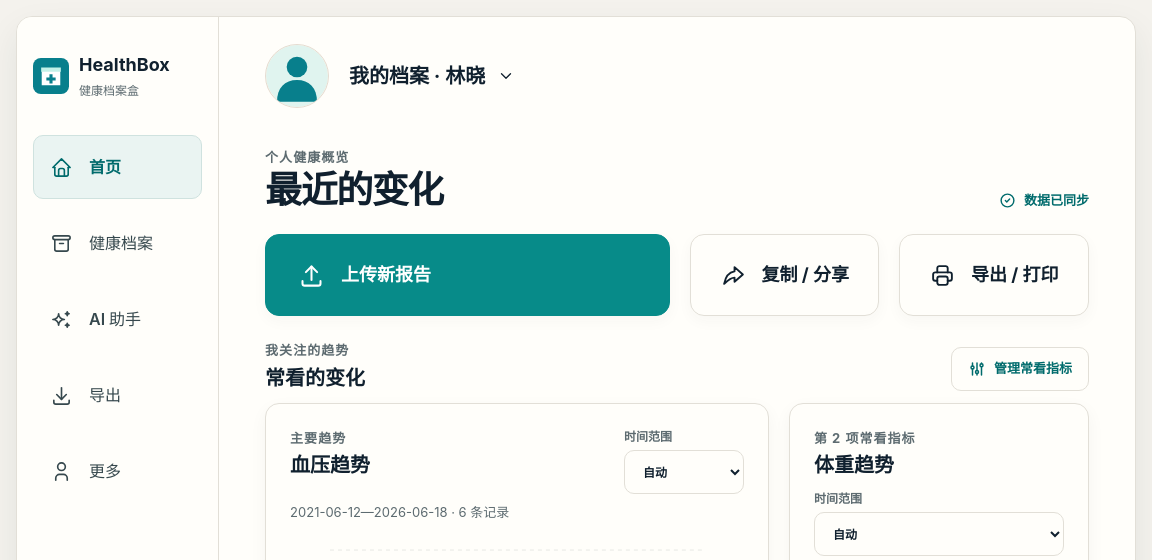
Test case: HouseholdHealthPrototype › opens the education-only body and screening navigator from more
Click the button "更多": click(118, 471) [33, 439, 202, 503]
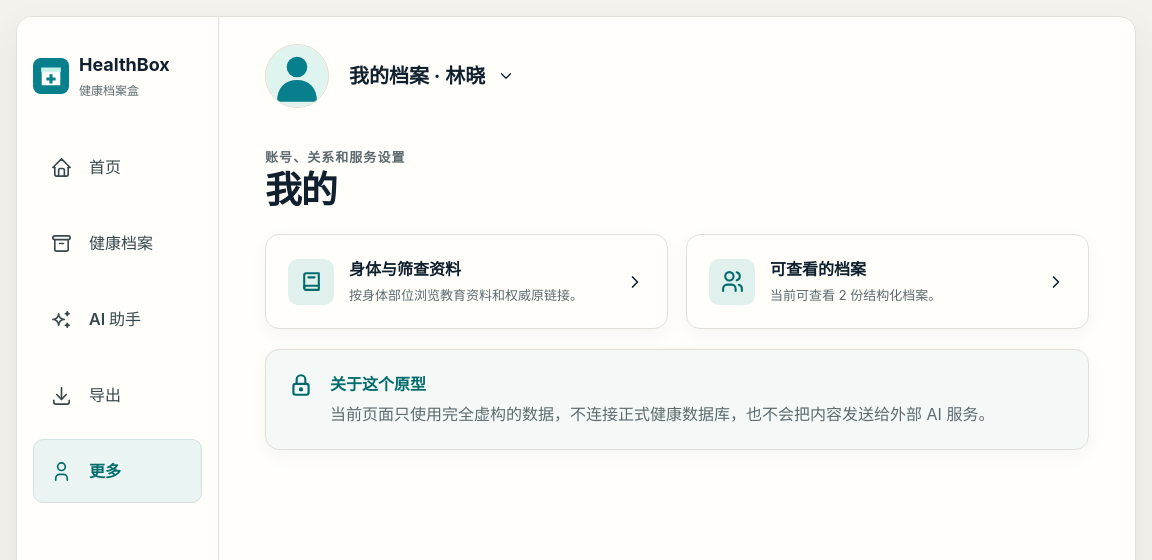
Click the button "身体与筛查资料 按身体部位浏览教育资料和权威原链接。": click(311, 282) [265, 234, 668, 329]
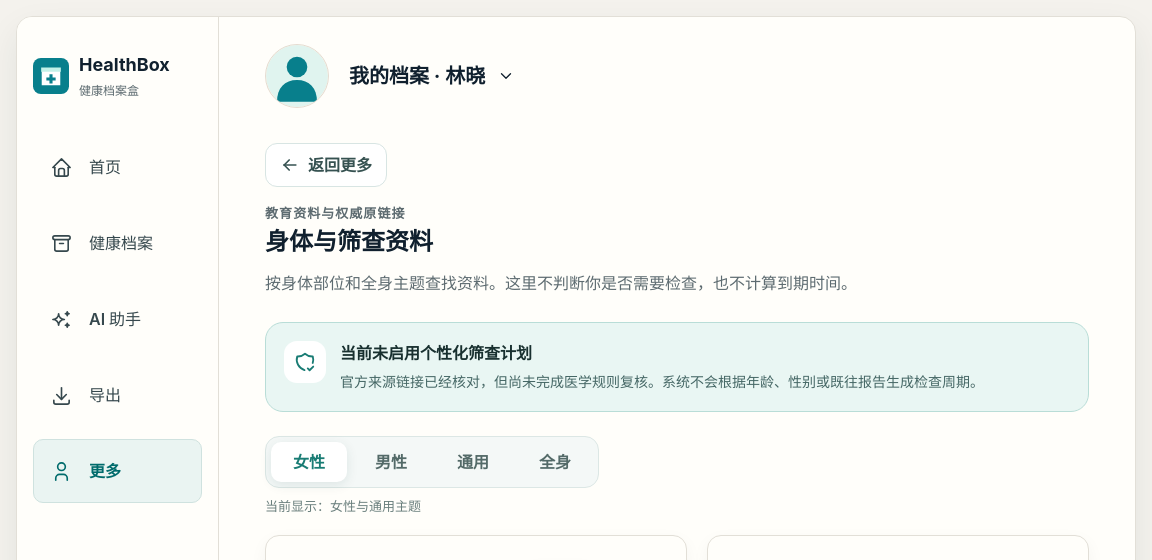
Check: the heading "身体与筛查资料" is shown, box [265, 227, 433, 256]
Check: the text "当前未启用个性化筛查计划" is shown, box [340, 342, 532, 362]
Click the button "返回更多": click(326, 165) [265, 143, 387, 187]
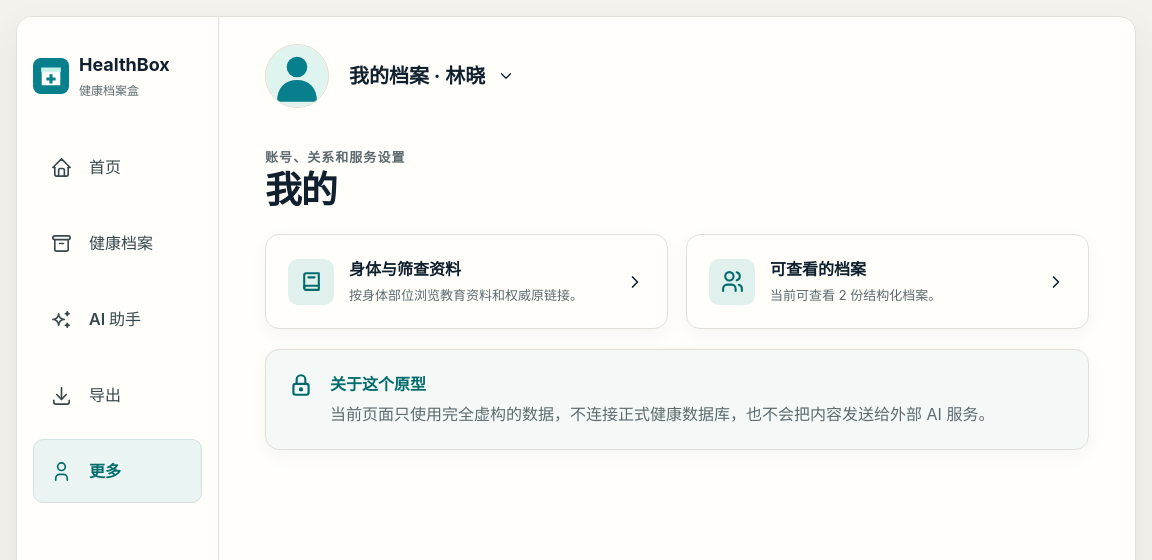
Check: the heading "我的" is shown, box [265, 167, 336, 212]
